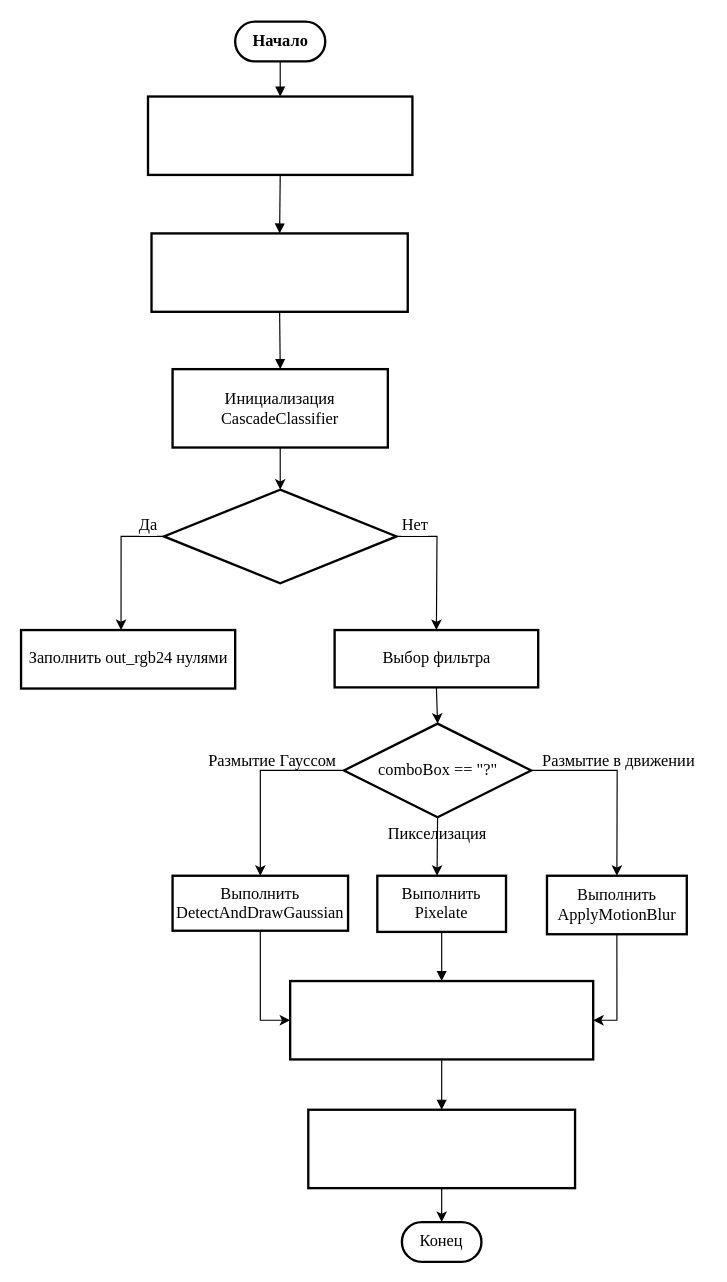
This 727x1282 diagram has some shape labels left out. Here are the shapes that lost their labels. From the top down, the centre of each, then its label:
(279,135): Данные изображения: inp_rgb24
(279,272): Конвертация RGB24 в BGR24
(279,536): Классификатор пуст?
(441,1019): Обработка лиц выбранным фильтром
(441,1148): Обратная конвертация BGR24 в RGB24
